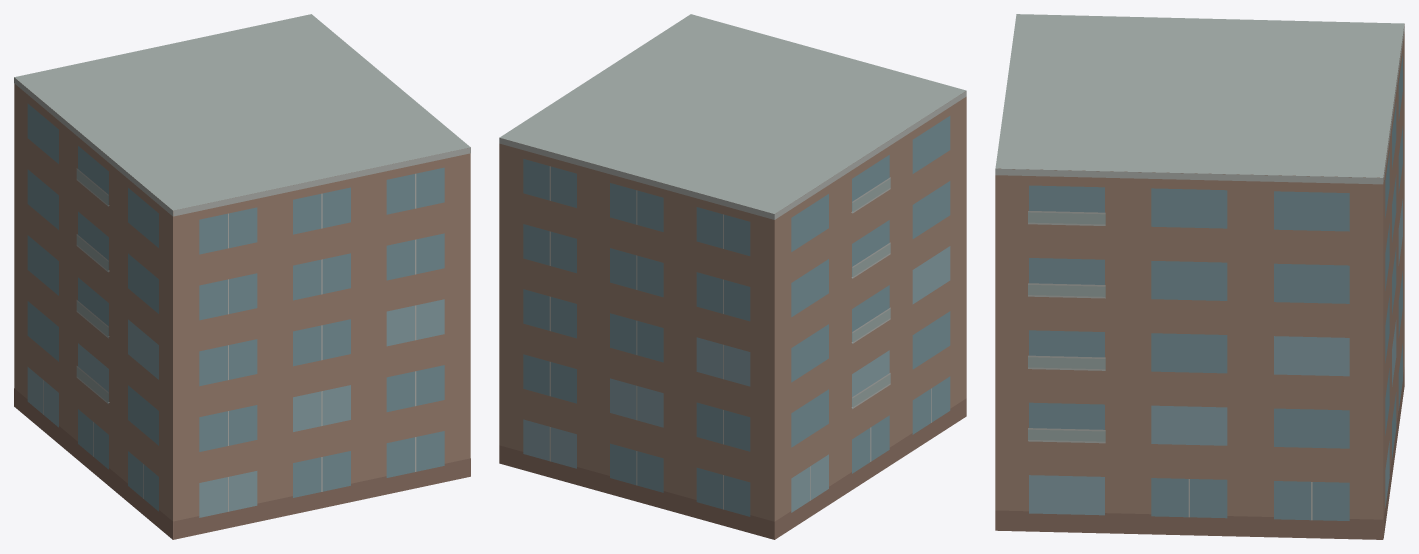
The model's file is survey-upis-32988495.glb.
3 views of the same model, side by side, from view 1: azimuth 30°, elevation 25°; view 2: azimuth 150°, elevation 25°; view 3: azimuth 270°, elevation 25° (orthographic). The views are drawn at different scales.
Parts seen in each view (by area): view 1: survey-upis-32988495.tmp; view 2: survey-upis-32988495.tmp; view 3: survey-upis-32988495.tmp.
Part boxes in pixels (x1,y1,x2,y2): survey-upis-32988495.tmp: (14, 14, 470, 539); survey-upis-32988495.tmp: (499, 14, 966, 539); survey-upis-32988495.tmp: (995, 14, 1404, 539).
Bounding box in the file's own units: 13.11 × 13.5 × 13.84.
